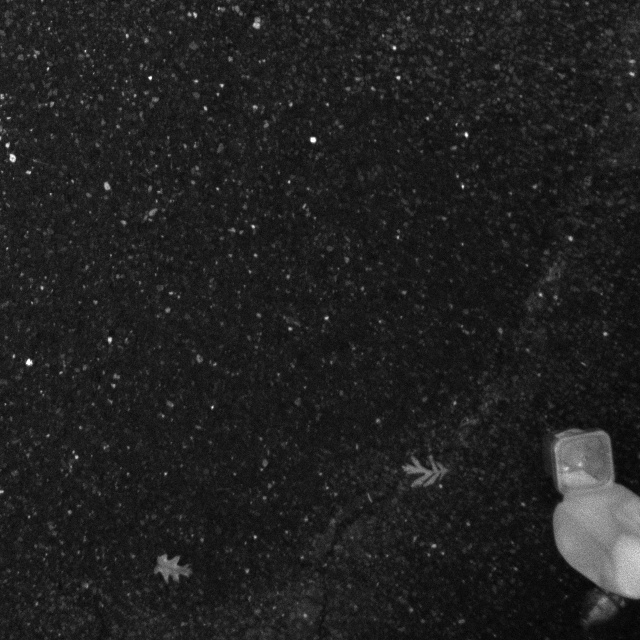can: (540, 481, 639, 598)
container: (538, 419, 624, 507)
